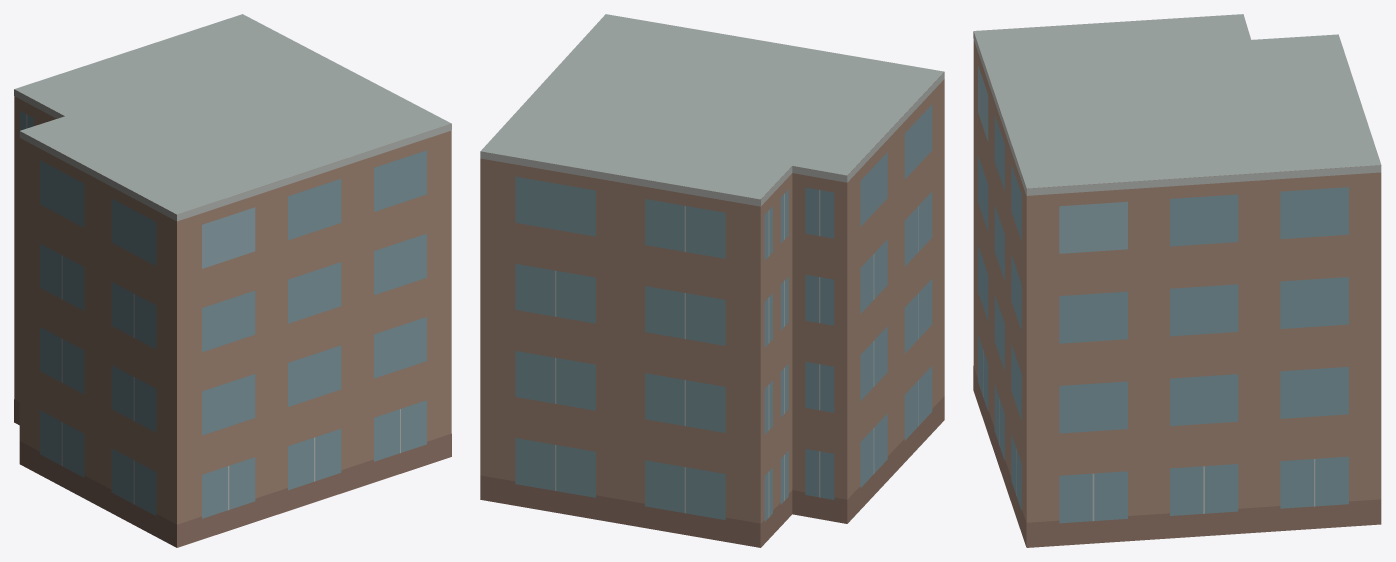
The model's file is survey-upis-32576528.glb.
3 renders of one model, left to right at view 1: azimuth 30°, elevation 25°; view 2: azimuth 150°, elevation 25°; view 3: azimuth 270°, elevation 25°, orthographic. The views are drawn at different scales.
Parts seen in each view (by area): view 1: survey-upis-32576528.tmp; view 2: survey-upis-32576528.tmp; view 3: survey-upis-32576528.tmp.
Boxes of the visible parts, x1,y1,x2,y2 form: survey-upis-32576528.tmp: (14, 14, 451, 547); survey-upis-32576528.tmp: (480, 14, 944, 547); survey-upis-32576528.tmp: (973, 14, 1381, 547).
Bounding box in the file's own units: 12.35 × 11.85 × 12.2.
